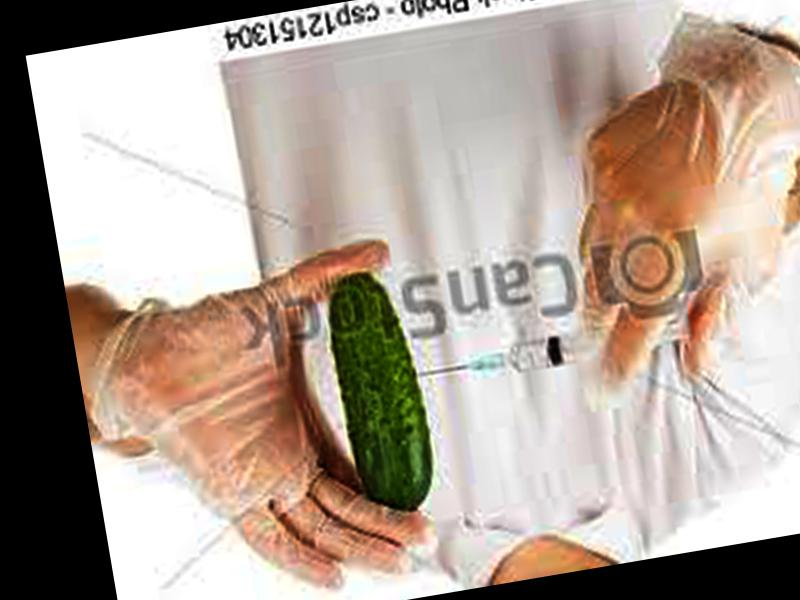Cucumber: (318, 269, 438, 525)
